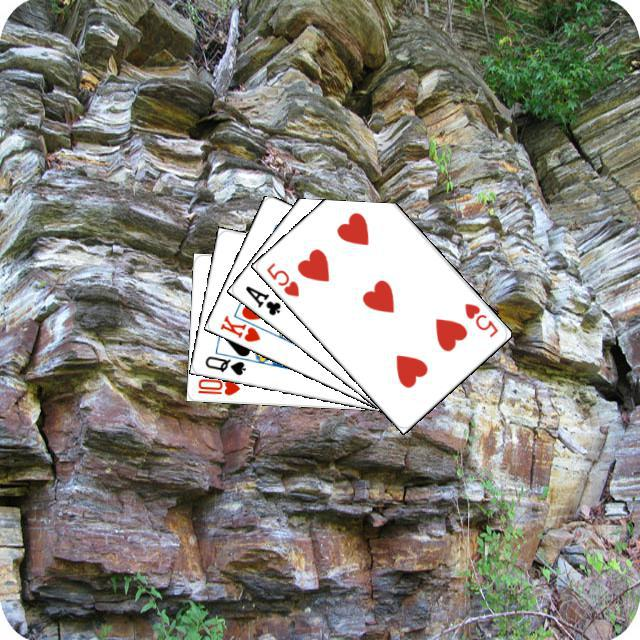10h: (192, 374, 242, 397)
5h: (460, 298, 500, 339), (261, 258, 301, 298)
Ac: (240, 280, 283, 317)
Kh: (215, 308, 270, 344)
Qs: (200, 351, 247, 377)
